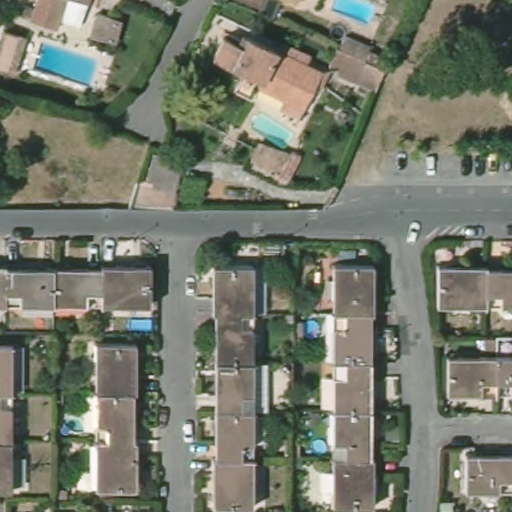pool: (34, 40, 101, 88), (247, 111, 298, 149), (328, 1, 379, 25), (56, 414, 87, 438), (307, 433, 331, 456), (301, 318, 325, 339), (125, 317, 156, 333)
